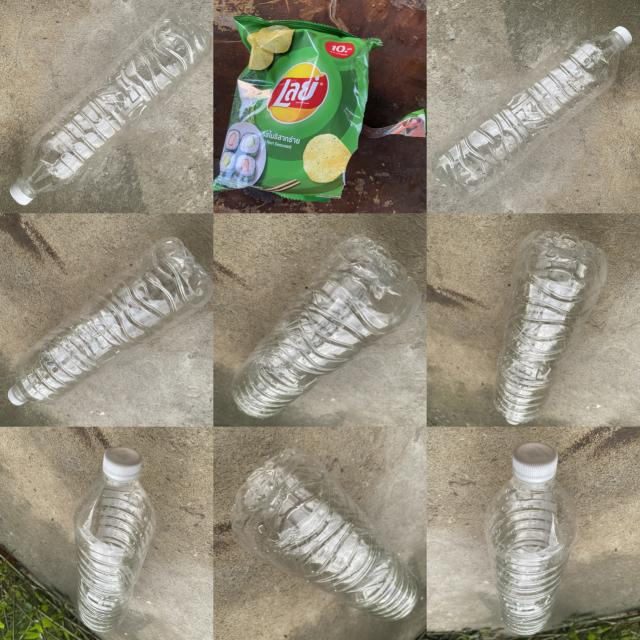plastik: (10, 10, 212, 204), (431, 26, 631, 201), (231, 236, 420, 418), (8, 238, 212, 404), (230, 449, 419, 621), (214, 15, 381, 201), (494, 231, 608, 424), (484, 442, 579, 635), (74, 448, 156, 632)
